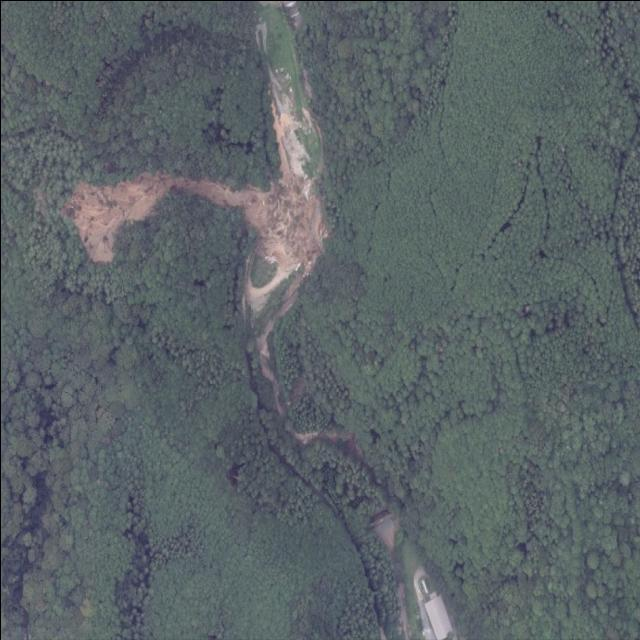landslide: (61, 100, 325, 315)
